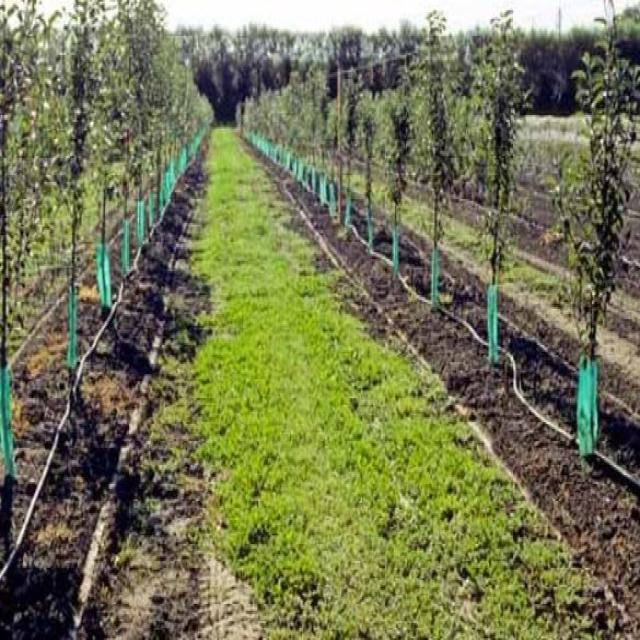row: (52, 125, 638, 640)
